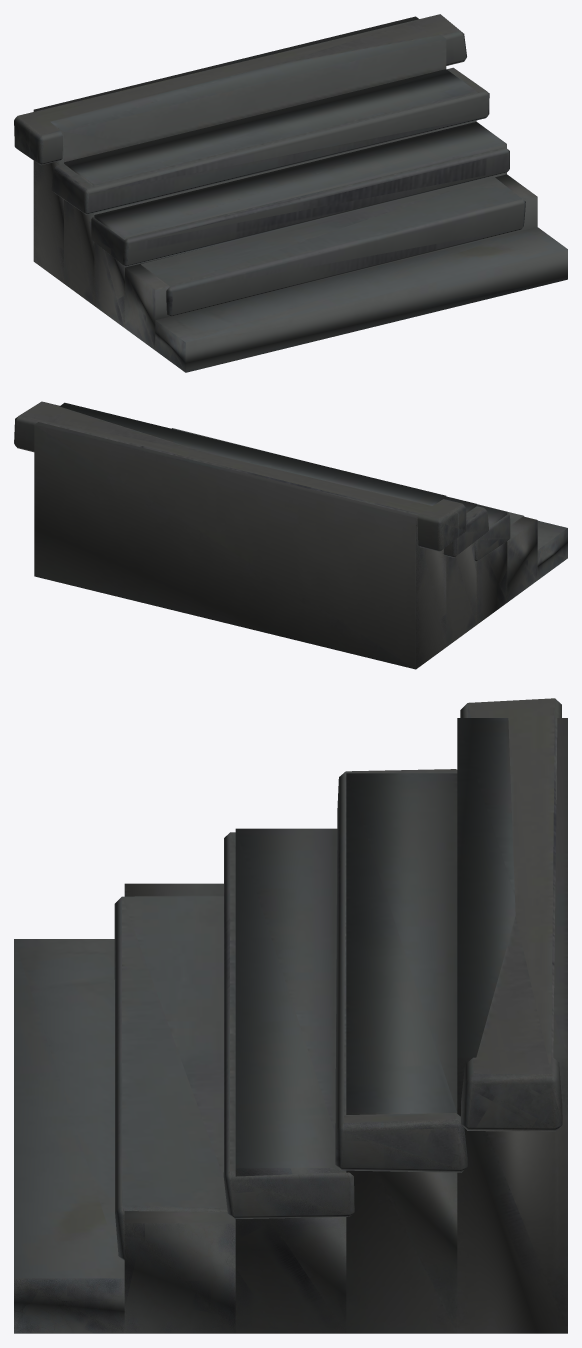
The model's file is stairs_stone.glb.
3 views of the same model, one above another, from view 1: azimuth 30°, elevation 25°; view 2: azimuth 150°, elevation 25°; view 3: azimuth 270°, elevation 25° (orthographic). The views are drawn at different scales.
Parts seen in each view (by area): view 1: stairs_stone; view 2: stairs_stone; view 3: stairs_stone.
Part boxes in pixels (left/top/right/bottom): stairs_stone: left=14, top=14, right=567, bottom=372; stairs_stone: left=14, top=401, right=567, bottom=669; stairs_stone: left=14, top=698, right=567, bottom=1333.
Bounding box in the file's own units: 3.26 × 1.11 × 2.
1 material, 1 textured.
